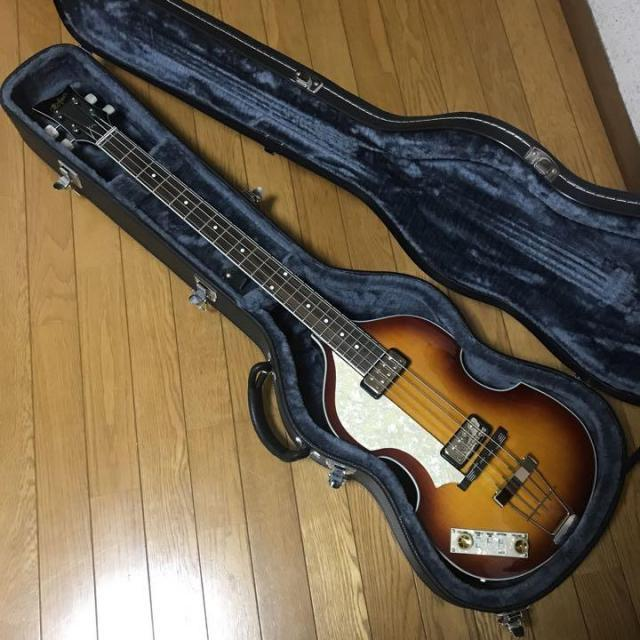bass: (35, 88, 595, 579)
